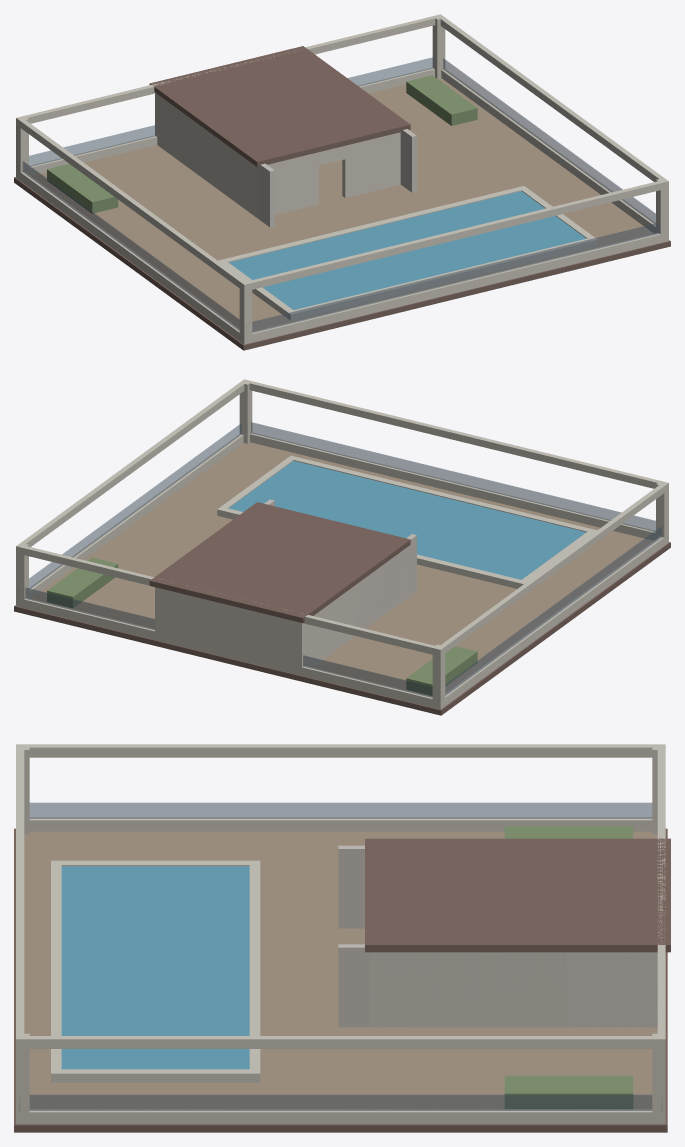
Rendered from brick-roof-b.skyline-v4.lod0.glb.
The picture shows the model from 3 angles, top to bottom: view 1: azimuth 30°, elevation 25°; view 2: azimuth 150°, elevation 25°; view 3: azimuth 270°, elevation 25°; orthographic projection. The views are drawn at different scales.
Parts seen in each view (by area): view 1: brick-roof-b; view 2: brick-roof-b; view 3: brick-roof-b.
Part boxes in pixels (x1,y1,x2,y2): brick-roof-b: (14,14,670,350); brick-roof-b: (14,379,670,715); brick-roof-b: (14,744,670,1132).
Size of the model in its own units: 26.16 by 3.8 by 24.48.
